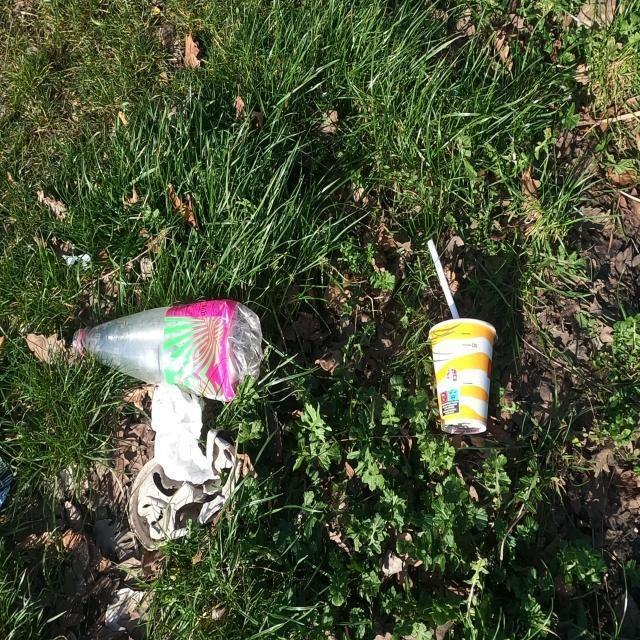Cup: (428, 317, 498, 435)
Paper: (151, 382, 220, 485)
